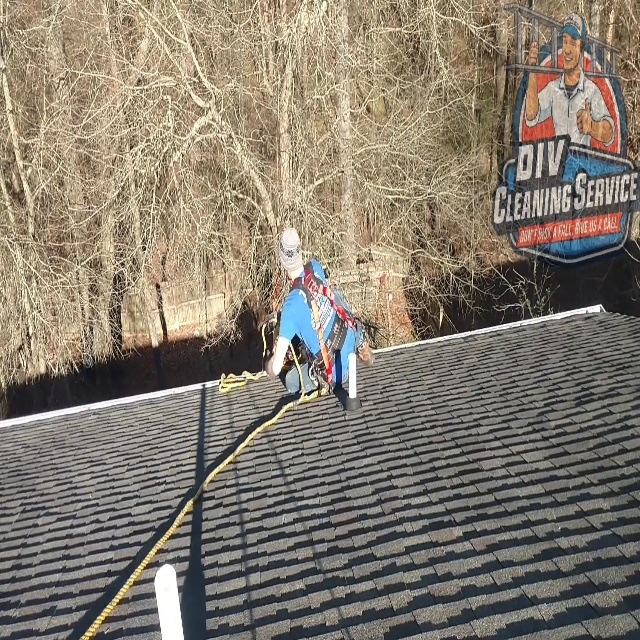Arnes_seguridad: (286, 259, 359, 400)
